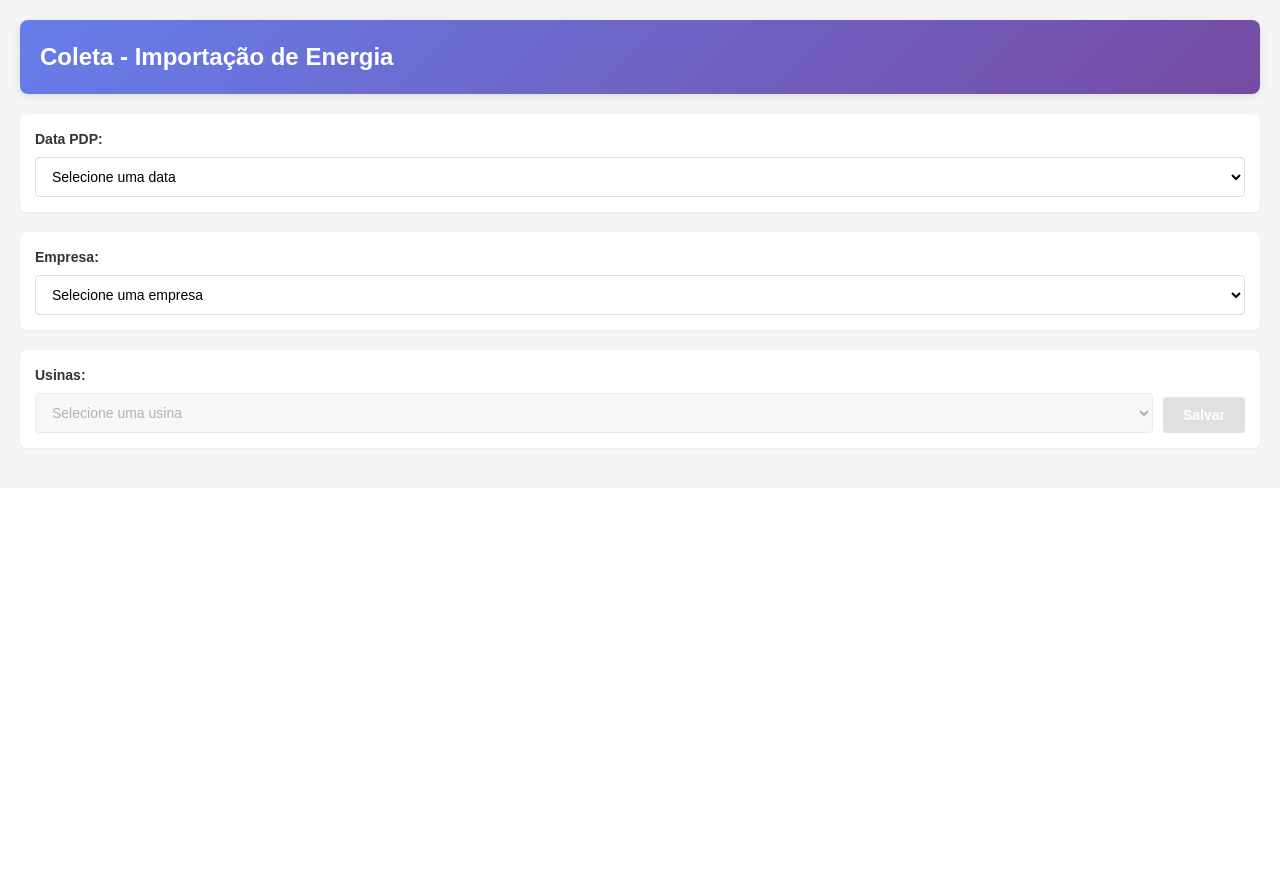
Test: Import Component › Seleção de Usina › deve mostrar textarea ao selecionar usina individual
Step 1. Select "15/01/2024" in the dropdown with test id "data-pdp-select" → (640, 177), box 35,157 -> 1245,197
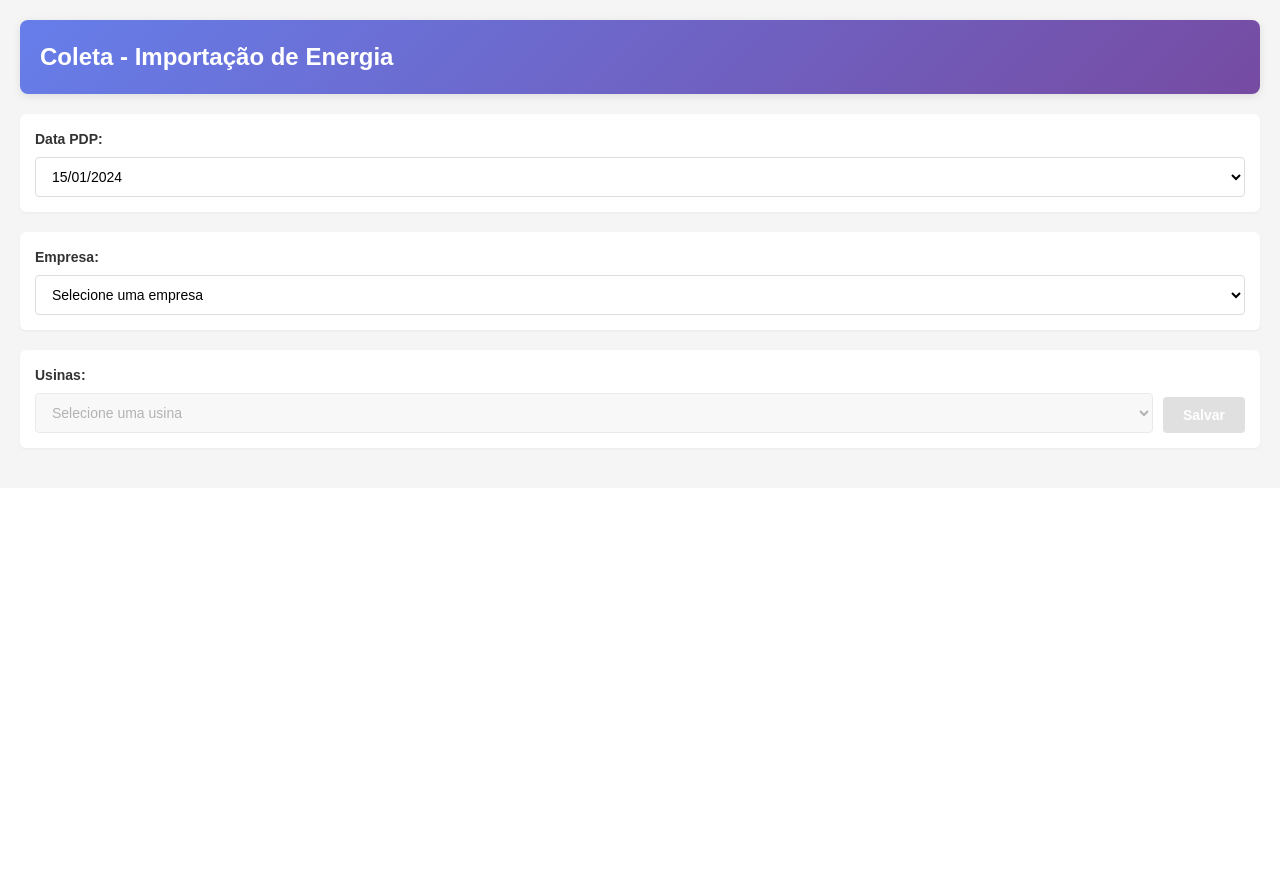
Step 2. Select "Eletrobras" in the dropdown with test id "empresa-select" → (640, 295), box 35,275 -> 1245,315
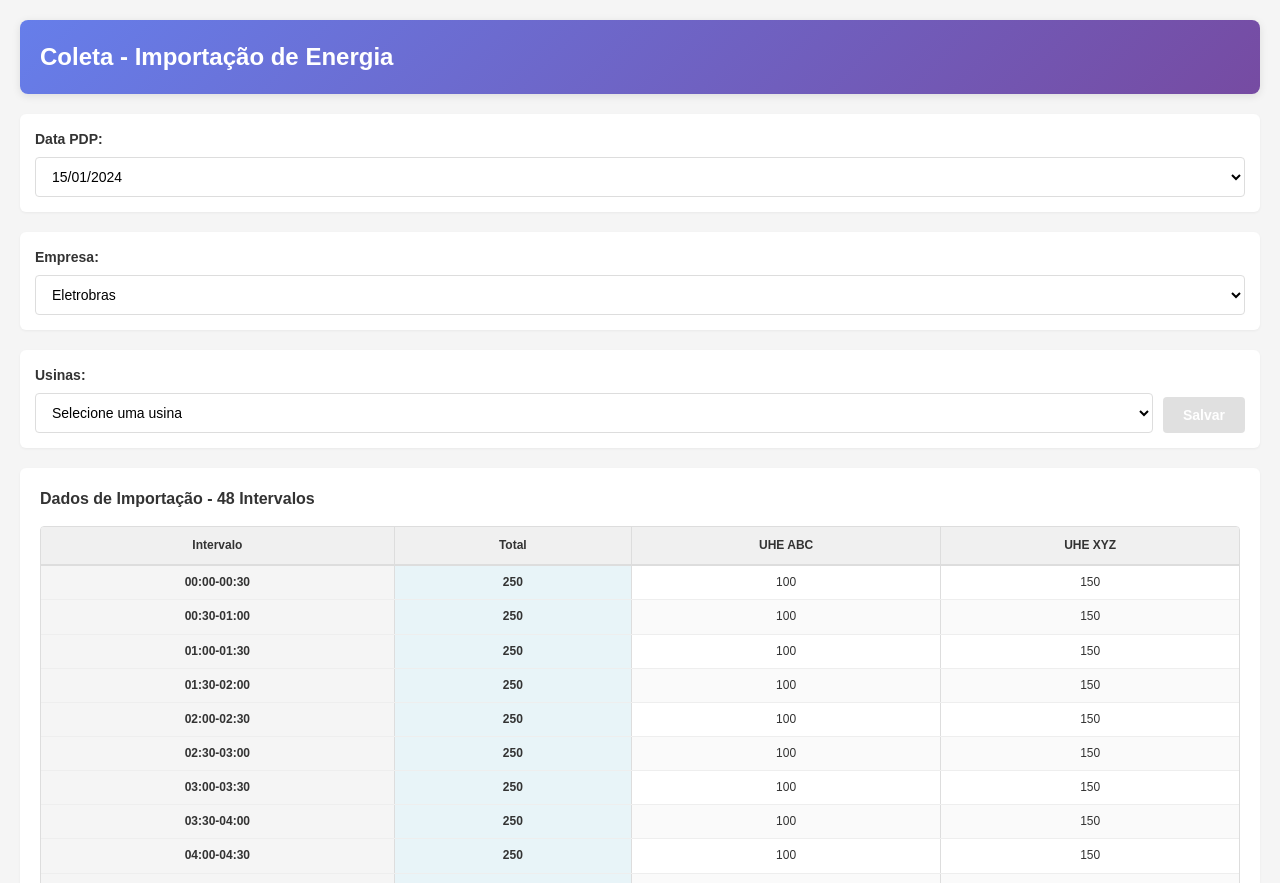
Step 3. Select "UHE ABC" in the dropdown with test id "usina-select" → (594, 413), box 35,393 -> 1153,433
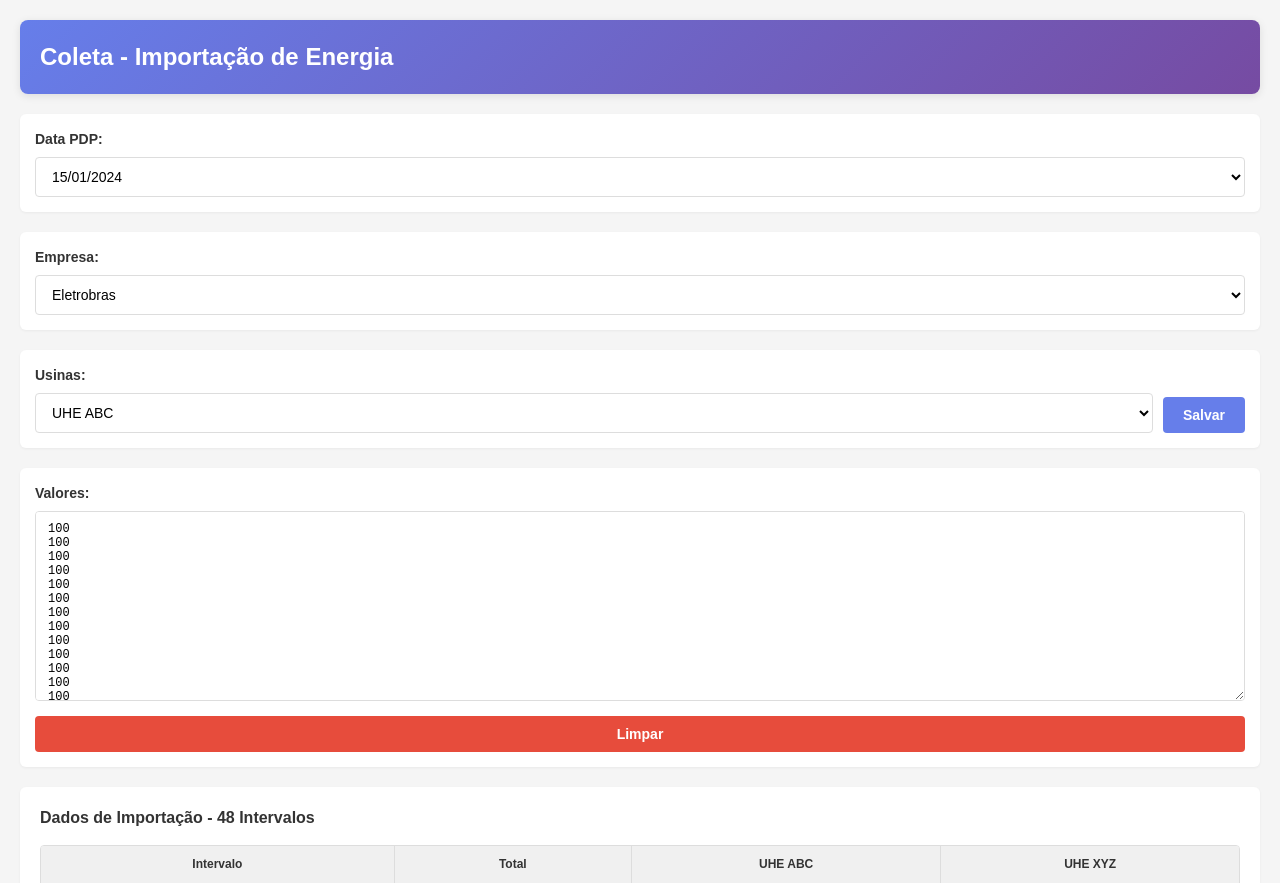
Expected: the text box with test id "valores-textarea" is shown, 35,511 -> 1245,701
